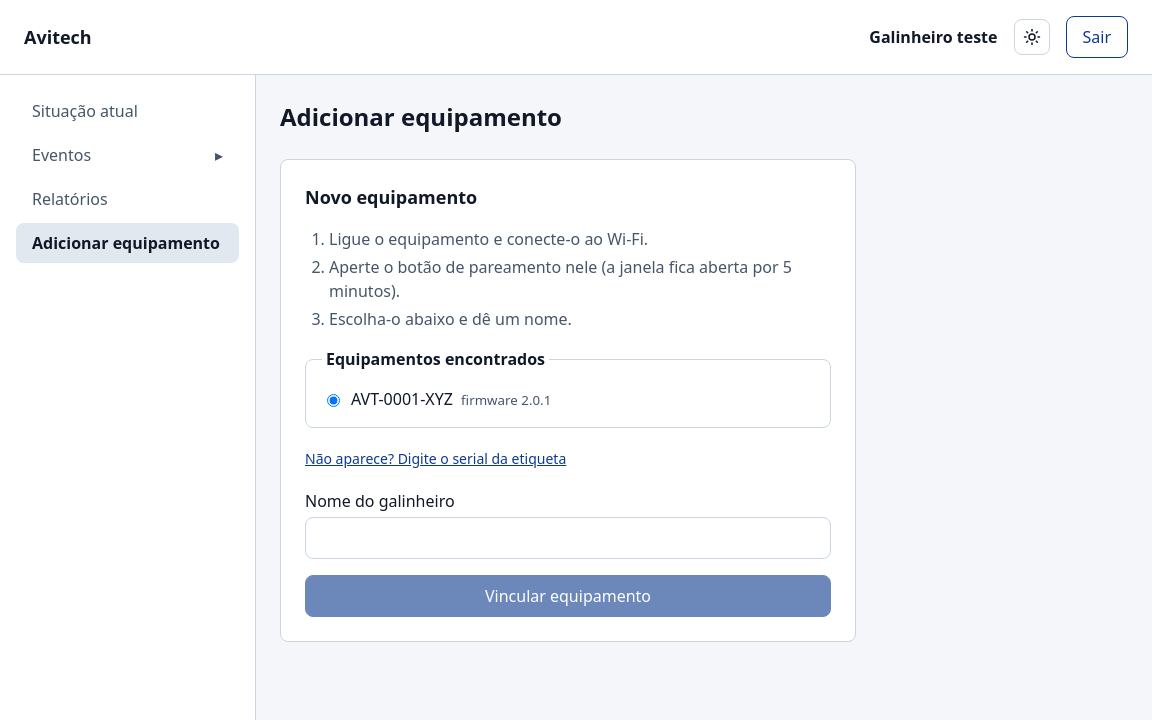
Adicionar equipamento (logado) › erro 429 (RATE_LIMITED) mostra a mensagem para o produtor
Expected: the radio button labelled "AVT-0001-XYZ firmware 2.0.1" is shown, [327,394,340,407]
In the field labelled "Nome do galinheiro": {"x": 568, "y": 538} [305,517,831,559], type "Novo"
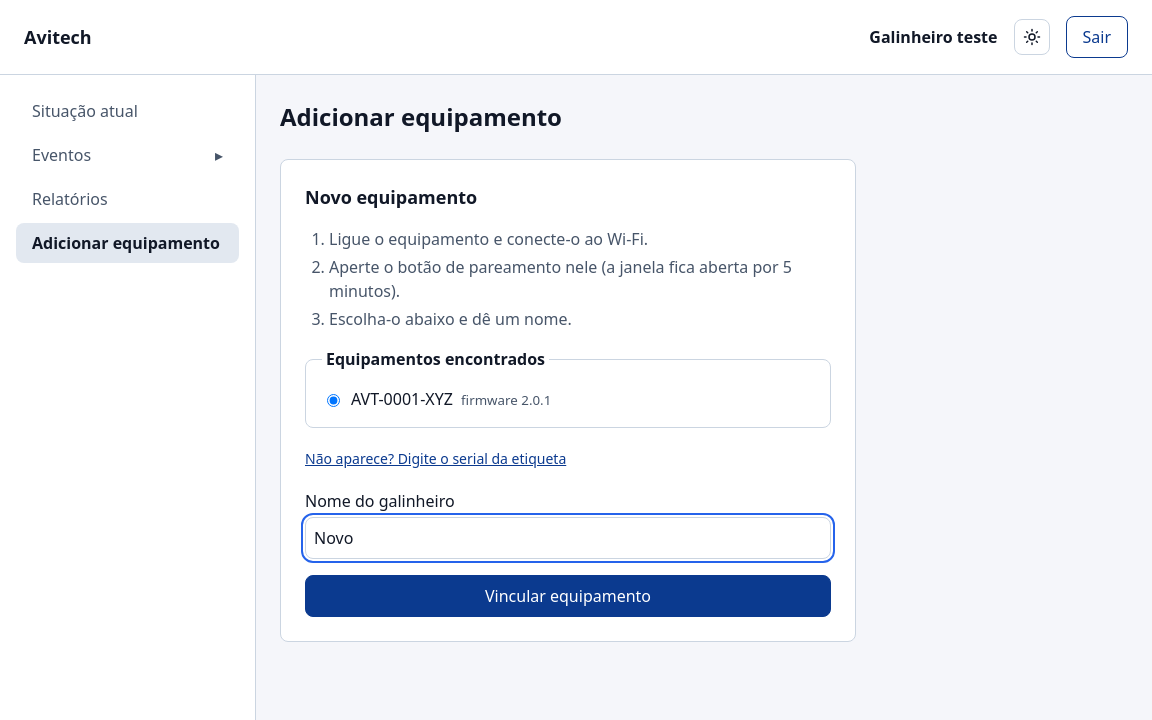
Click the button "Vincular equipamento": {"x": 568, "y": 596} [305,575,831,617]
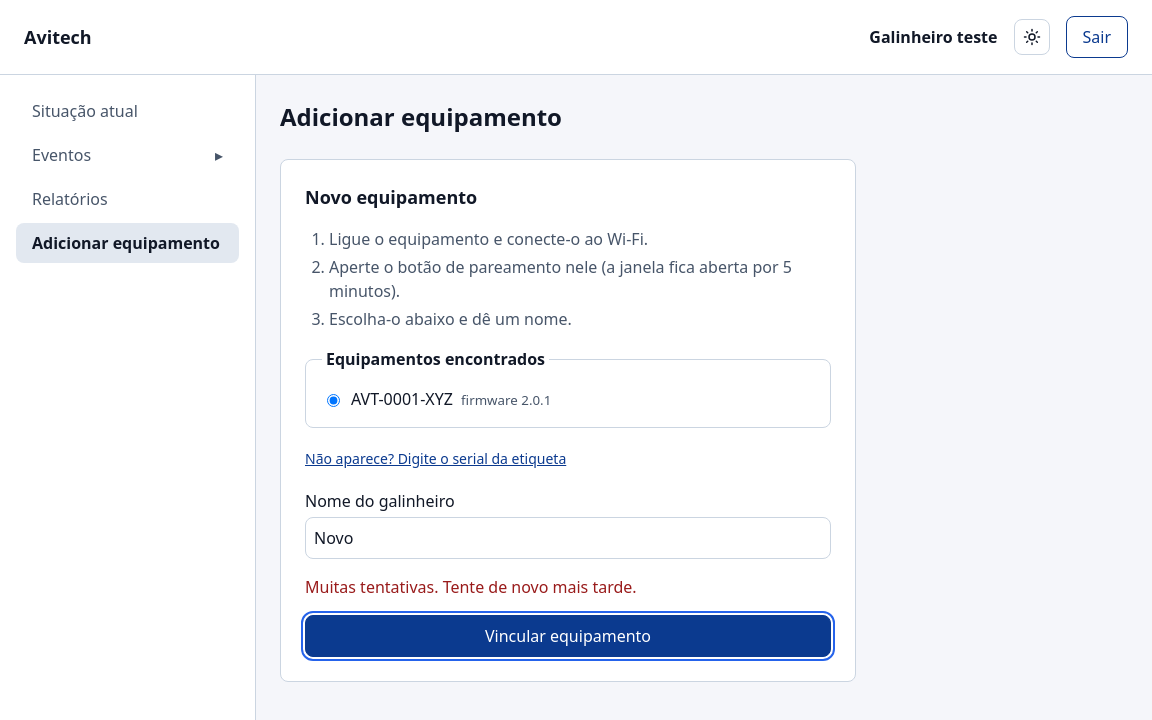
Now the message shows "Muitas tentativas", box [305,576,637,598]
